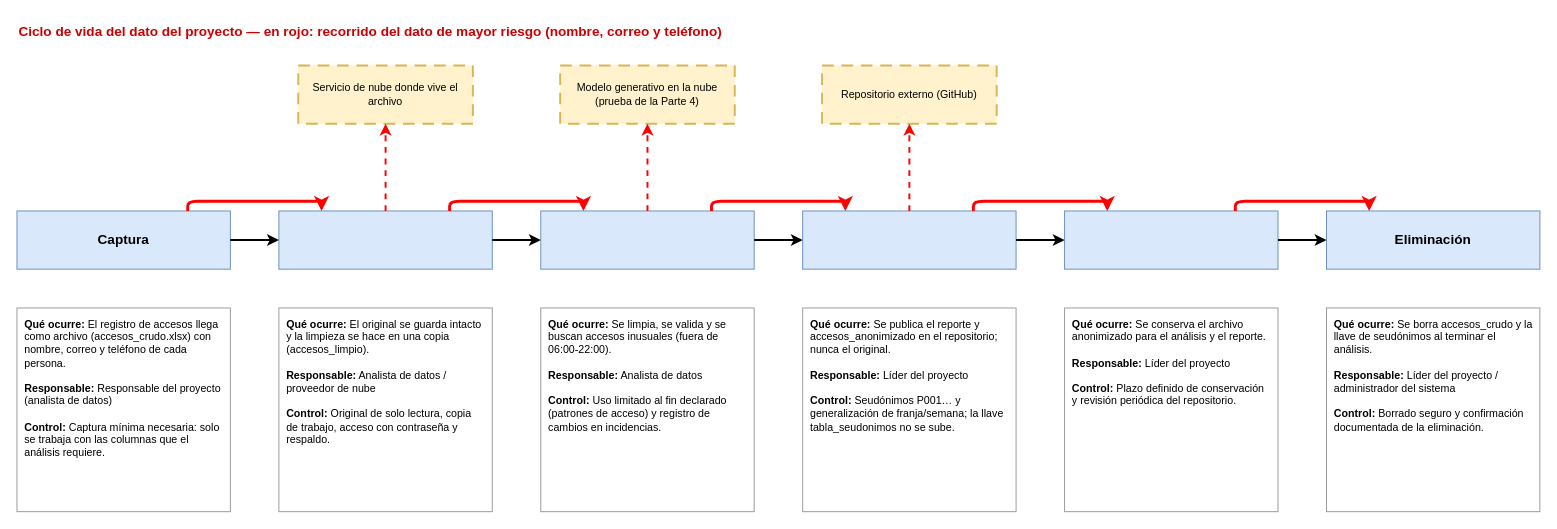
The diagram is 1557 pixels wide and 529 high, and some of its shapes have lost their labels. The box of each missing label's shape, as (x1, y1, x2, y2) in pixels:
Almacenamiento: (278, 210, 492, 269)
Compartición: (802, 210, 1016, 269)
Retención: (1064, 210, 1278, 269)
Uso: (540, 210, 754, 269)
